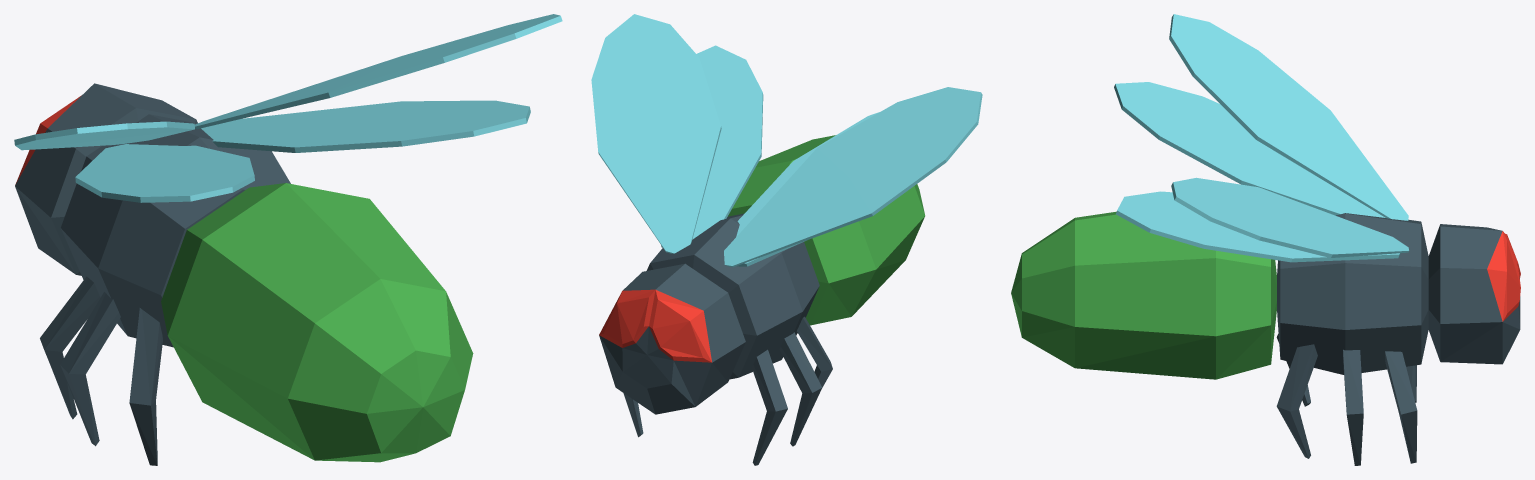
File: fly-jeremy-rigged.glb
3 renders of one model, left to right at view 1: azimuth 30°, elevation 25°; view 2: azimuth 150°, elevation 25°; view 3: azimuth 270°, elevation 25°, orthographic. The views are drawn at different scales.
Visible parts, largest first — view 1: body-green, body-dark, wing-right, wing-left; view 2: wing-right, body-dark, wing-left, body-green, body-eyes; view 3: body-green, body-dark, wing-left, wing-right, body-eyes.
Part boxes in pixels (x1,y1,x2,y2): body-green: [161, 183, 473, 462]; body-dark: [15, 83, 290, 465]; wing-right: [194, 14, 562, 152]; wing-left: [14, 121, 254, 202]; wing-right: [591, 14, 763, 253]; body-dark: [599, 213, 832, 465]; wing-left: [724, 87, 982, 267]; body-green: [728, 135, 925, 325]; body-eyes: [599, 289, 711, 362]; body-green: [1011, 211, 1276, 379]; body-dark: [1276, 213, 1520, 465]; wing-left: [1114, 14, 1408, 220]; wing-right: [1116, 177, 1409, 262]; body-eyes: [1487, 231, 1520, 321].
Size of the model in its own units: 6.31 by 5.15 by 7.15.
